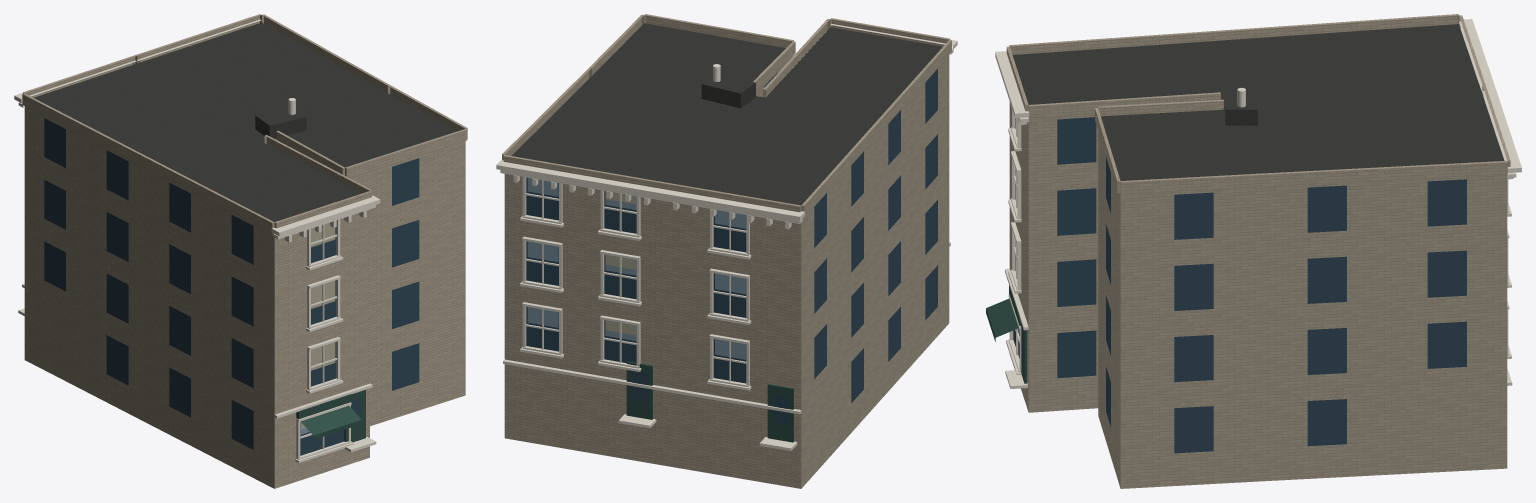
The picture shows the model from 3 angles, left to right: view 1: azimuth 30°, elevation 25°; view 2: azimuth 150°, elevation 25°; view 3: azimuth 270°, elevation 25°; orthographic projection. The views are drawn at different scales.
Parts seen in each view (by area): view 1: Footprint 0 / surface 2, Footprint 0 / surface 1, Inset glazing, Facade bay volumes, Cornices and window frames, Storefronts and doors, Interior blind variation, Inferred rooftop service enclosure / surface 5, Inferred rooftop service enclosure / surface 3; view 2: Footprint 0 / surface 2, Footprint 0 / surface 1, Inset glazing, Cornices and window frames, Facade bay volumes, Sky reflection panels, Storefronts and doors, Interior blind variation, Inferred rooftop service enclosure / surface 6, Inferred rooftop service enclosure / surface 3; view 3: Footprint 0 / surface 2, Footprint 0 / surface 1, Inset glazing, Facade bay volumes, Cornices and window frames, Storefronts and doors.
Boxes of the visible parts, x1,y1,x2,y2 form: Footprint 0 / surface 2: (24, 106, 465, 488); Footprint 0 / surface 1: (34, 22, 456, 221); Inset glazing: (44, 118, 419, 455); Facade bay volumes: (22, 14, 467, 233); Cornices and window frames: (14, 19, 380, 462); Storefronts and doors: (296, 389, 365, 442); Interior blind variation: (301, 222, 335, 429); Inferred rooftop service enclosure / surface 5: (269, 117, 306, 138); Inferred rooftop service enclosure / surface 3: (256, 107, 305, 125); Footprint 0 / surface 2: (504, 55, 949, 488); Footprint 0 / surface 1: (512, 23, 942, 205); Inset glazing: (526, 69, 937, 424); Cornices and window frames: (496, 23, 957, 450); Facade bay volumes: (502, 14, 951, 216); Sky reflection panels: (527, 178, 745, 359); Storefronts and doors: (626, 361, 793, 442); Interior blind variation: (605, 191, 635, 335); Inferred rooftop service enclosure / surface 6: (701, 84, 740, 108); Inferred rooftop service enclosure / surface 3: (702, 74, 755, 93); Footprint 0 / surface 2: (1009, 102, 1507, 488); Footprint 0 / surface 1: (1012, 24, 1504, 180); Inset glazing: (1013, 117, 1466, 453); Facade bay volumes: (1006, 14, 1510, 194); Cornices and window frames: (995, 19, 1521, 388); Storefronts and doors: (986, 285, 1026, 383).
Size of the model in its own units: 14.71 by 13.4 by 19.64.
